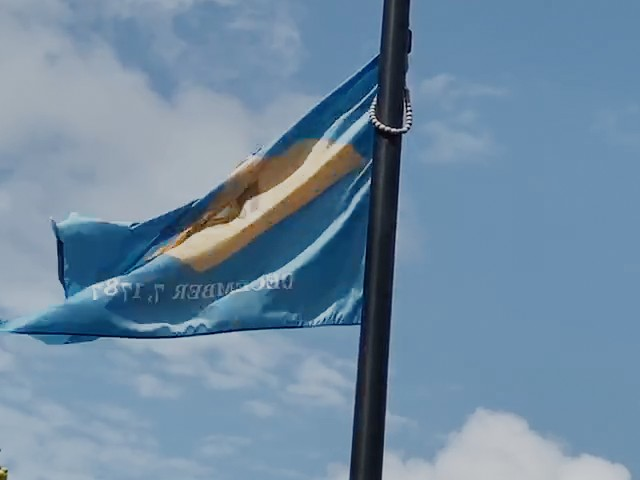Delaware flag: (1, 52, 382, 342)
